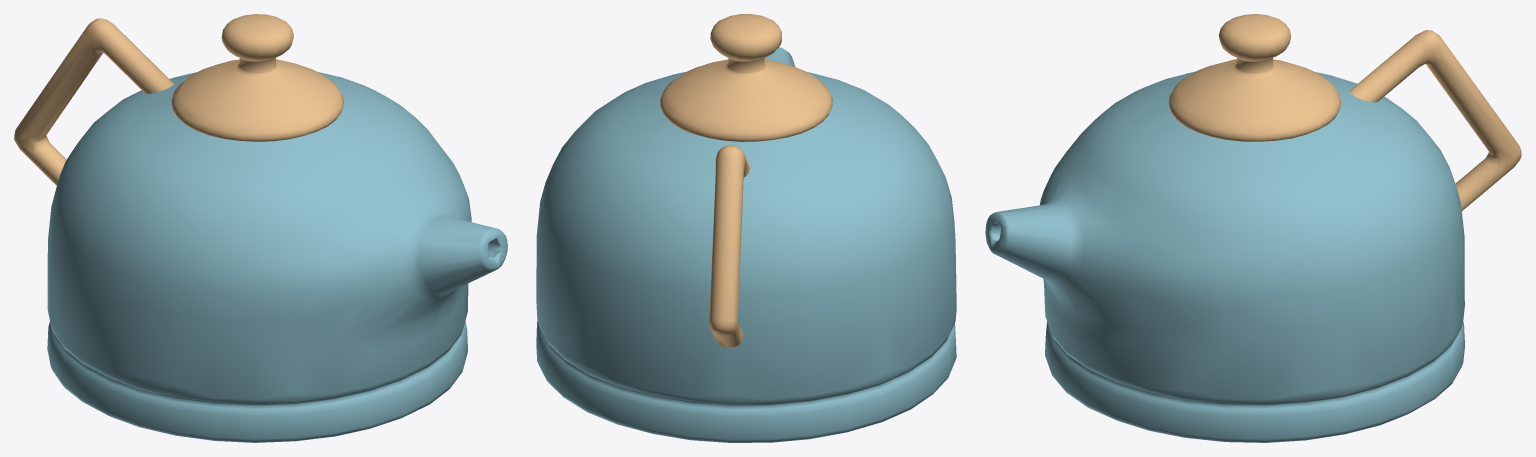
The model's file is Tetera.fbx.
3 views of the same model, side by side, from view 1: azimuth 30°, elevation 25°; view 2: azimuth 150°, elevation 25°; view 3: azimuth 270°, elevation 25° (orthographic).
Parts seen in each view (by area): view 1: Circle.015; view 2: Circle.015; view 3: Circle.015.
Part boxes in pixels (bbox=[...]): Circle.015: bbox=[14, 14, 507, 442]; Circle.015: bbox=[536, 14, 956, 442]; Circle.015: bbox=[985, 14, 1521, 442].
Size of the model in its own units: 3.51 by 3.1 by 4.48.
